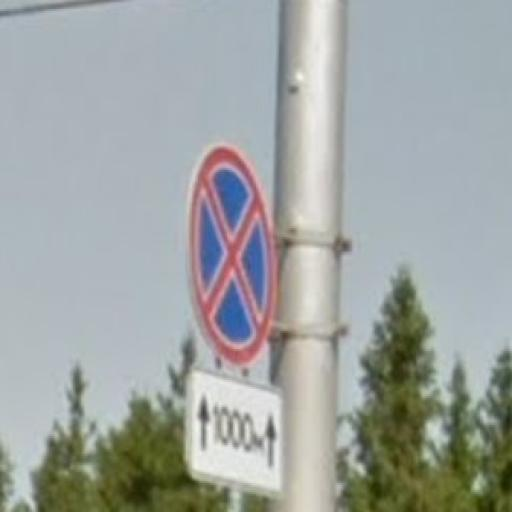traffic_sign: (189, 144, 279, 372)
